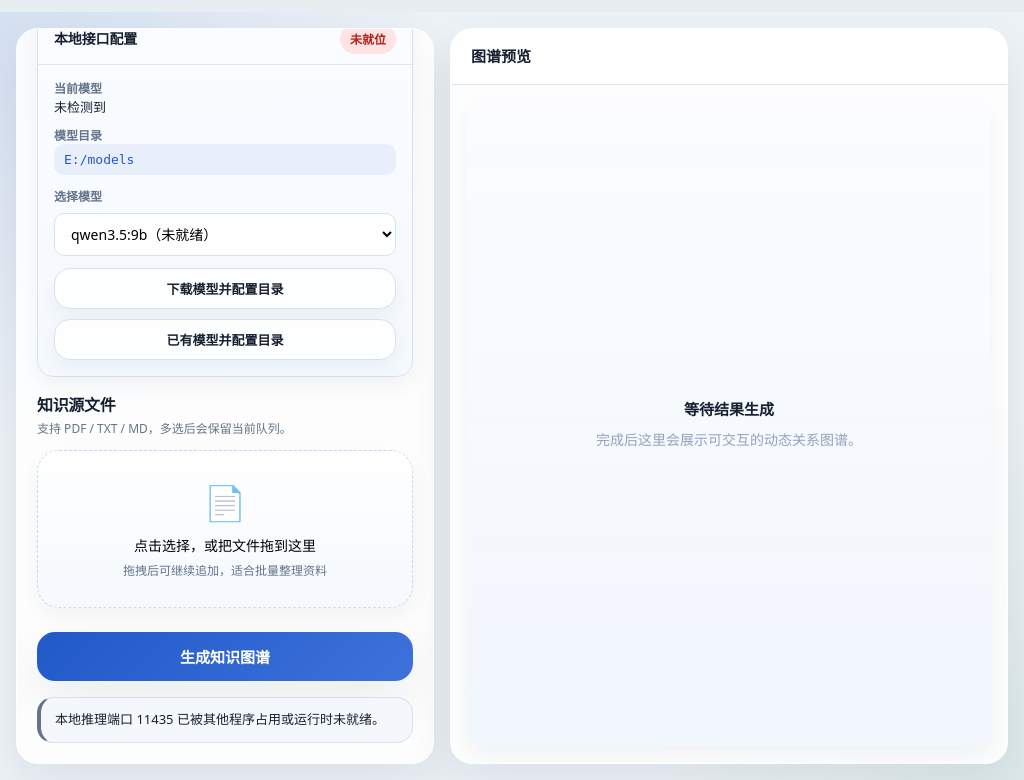
App › does not let provider polling overwrite an unrelated status message
(page scrolled)
Click the button with class "drop-zone". click: {"x": 225, "y": 502}
box: [37,450,413,608]
Wait 2500 ms
(page scrolled)
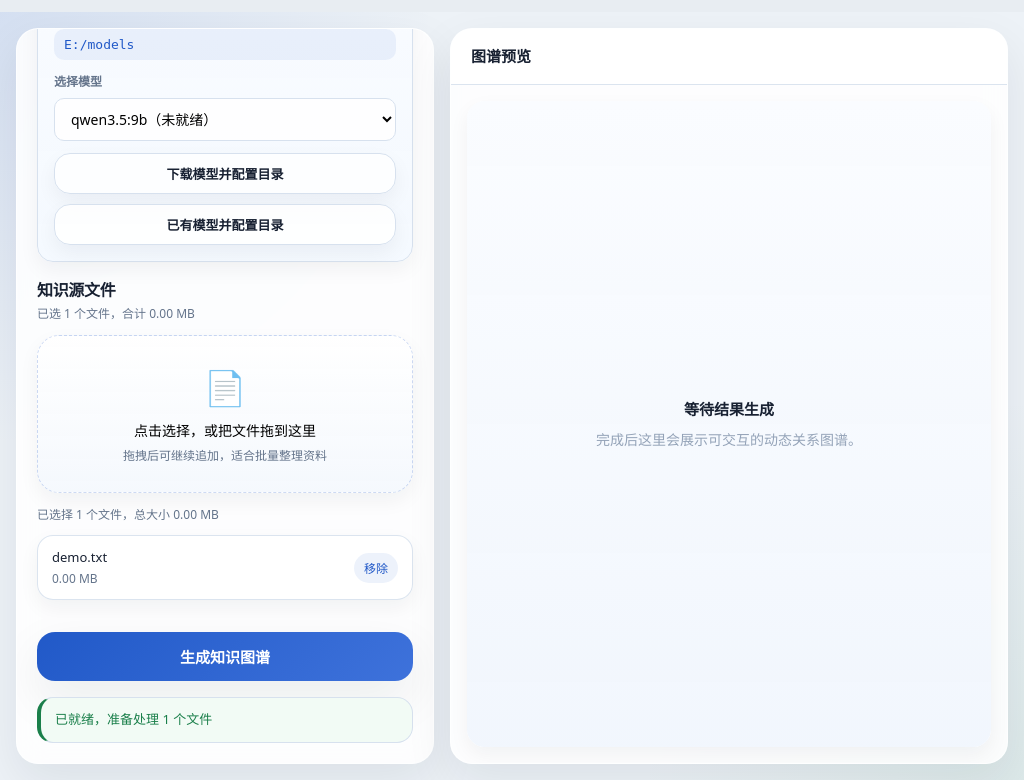
Now the text with class "status" reads "已就绪，准备处理 1 个文件", box [55,710,212,728]
